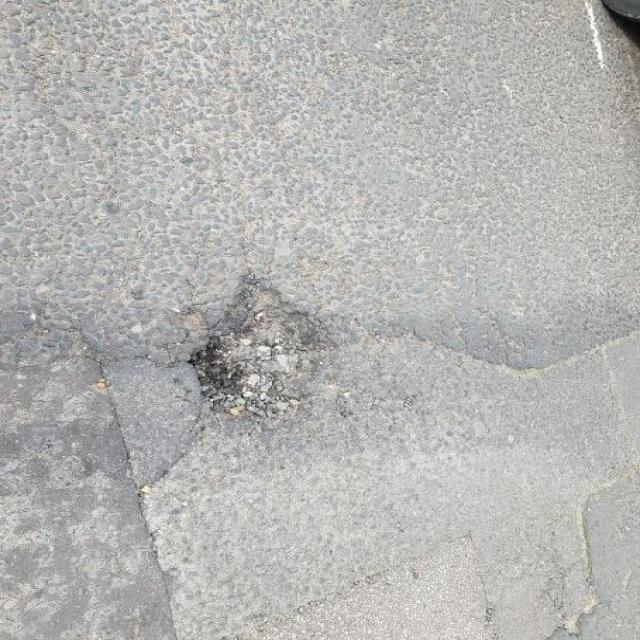Pothole: (176, 263, 337, 433)
